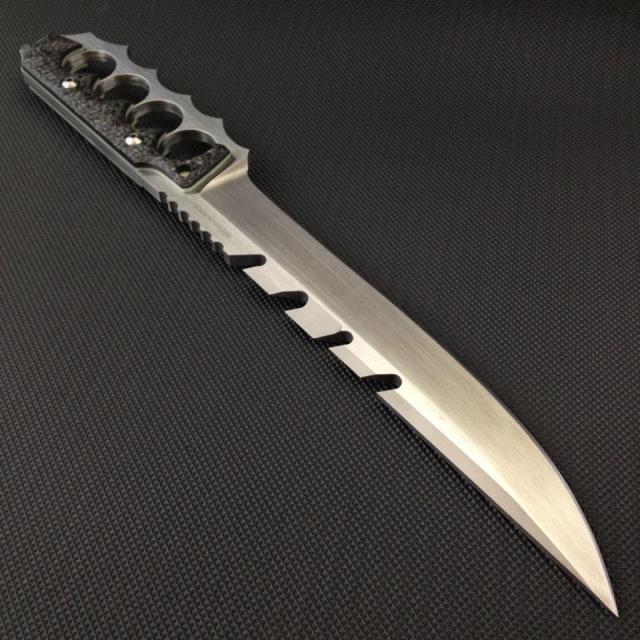Pisau: (27, 19, 630, 629)
